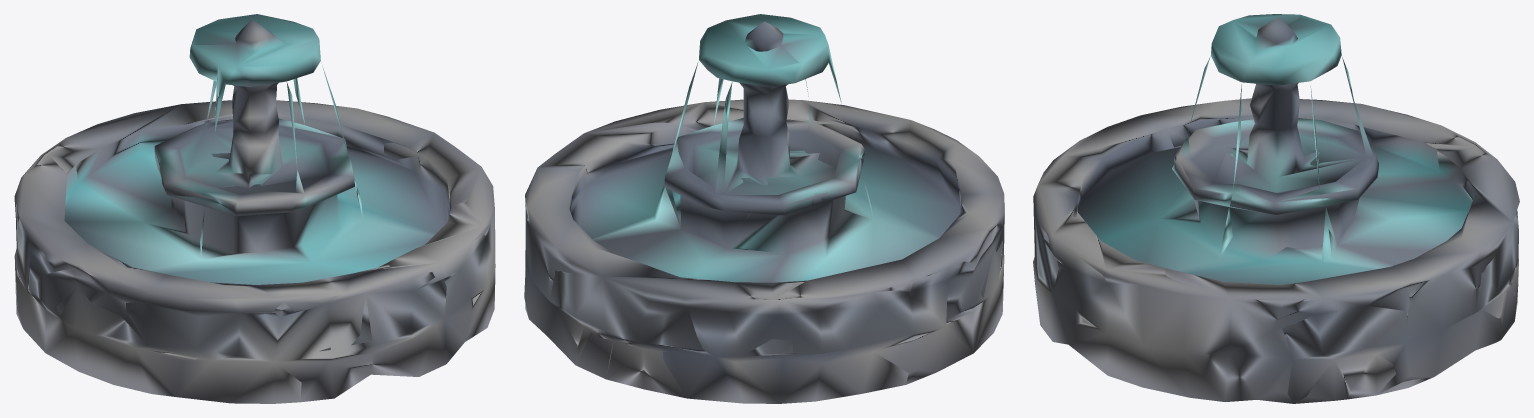
The model's file is gen3d-park-fountain-lod1.glb.
3 views of the same model, side by side, from view 1: azimuth 30°, elevation 25°; view 2: azimuth 150°, elevation 25°; view 3: azimuth 270°, elevation 25° (orthographic).
Parts seen in each view (by area): view 1: part_0; view 2: part_0; view 3: part_0.
Boxes of the visible parts, x1,y1,x2,y2 form: part_0: [14, 14, 495, 403]; part_0: [524, 14, 1004, 403]; part_0: [1033, 14, 1519, 403].
Bounding box in the file's own units: 1.54 × 0.9979 × 1.54.
